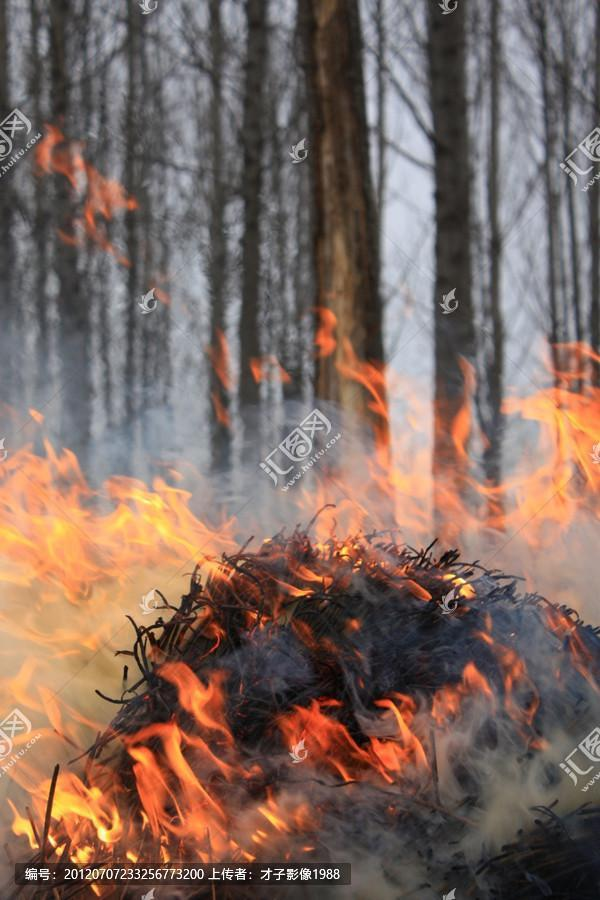fire: (9, 143, 594, 889)
